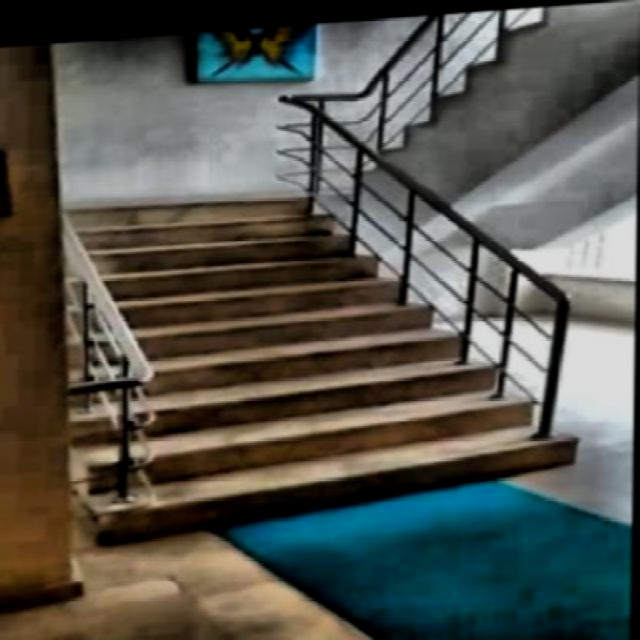stair: (48, 160, 574, 531)
